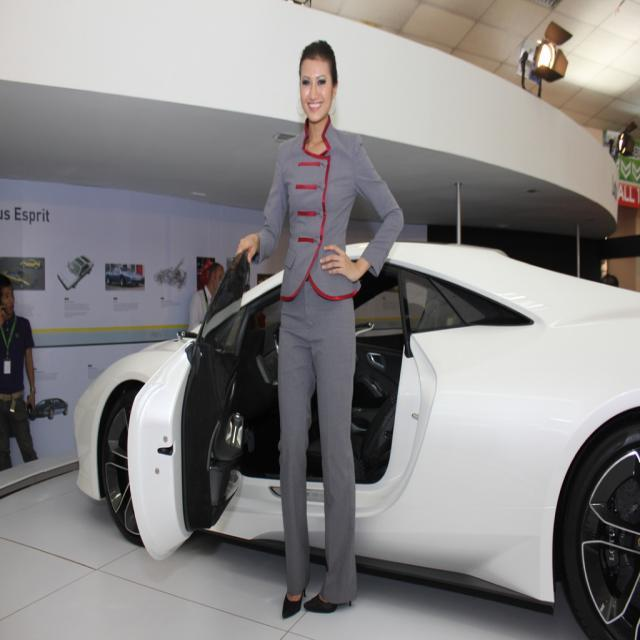person: (236, 34, 408, 618)
